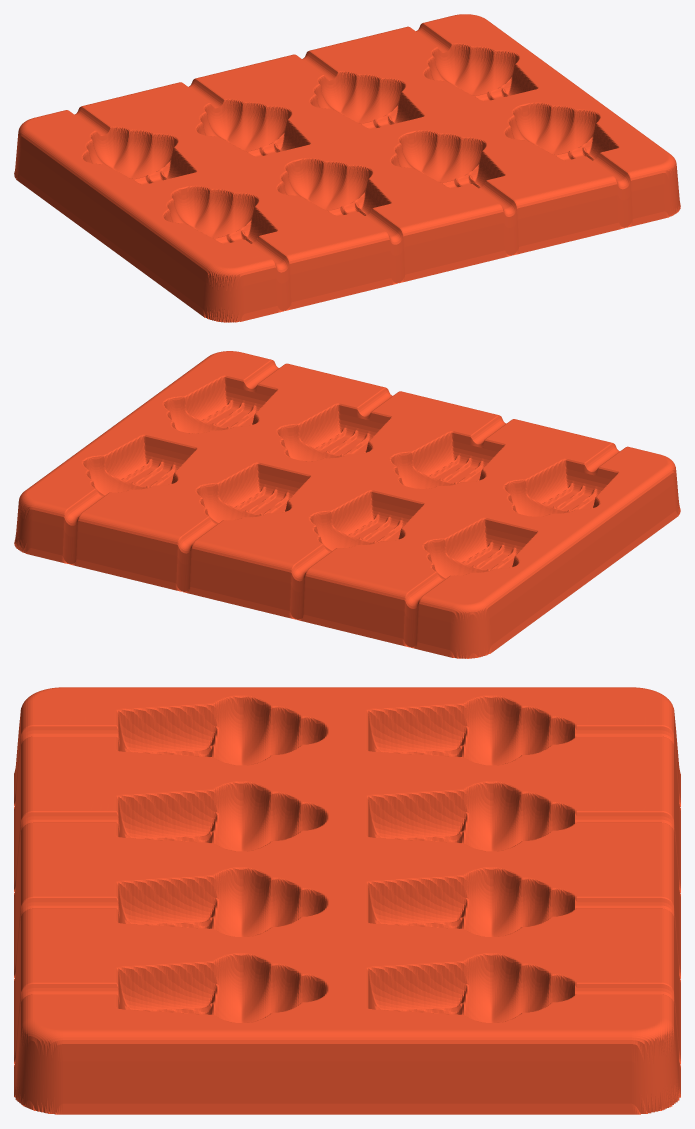
Rendered from mold.glb.
The picture shows the model from 3 angles, top to bottom: view 1: azimuth 30°, elevation 25°; view 2: azimuth 150°, elevation 25°; view 3: azimuth 270°, elevation 25°; orthographic projection. The views are drawn at different scales.
Visible parts, largest first — view 1: geometry_0; view 2: geometry_0; view 3: geometry_0.
Boxes of the visible parts, x1,y1,x2,y2 form: geometry_0: (14,14,680,322); geometry_0: (14,351,680,658); geometry_0: (14,687,680,1114).
Bounding box in the file's own units: 0.1562 × 0.0155 × 0.1229.
